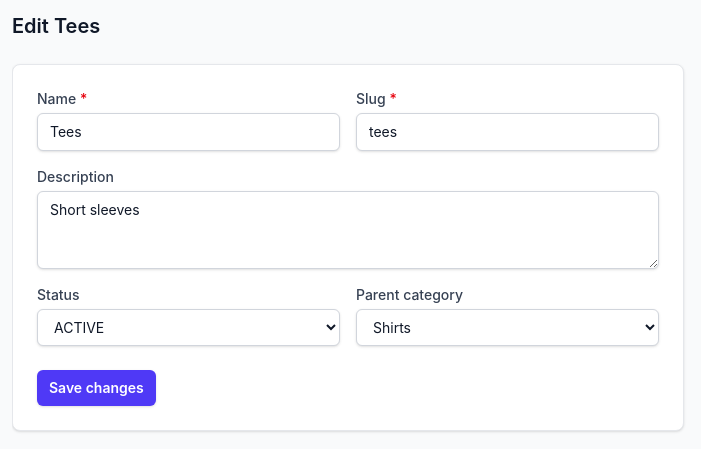
Test: CategoryFormPage › clears the description and parent when emptied on edit
Clear the text box labelled "Description": (348, 230) [37,191,659,269]
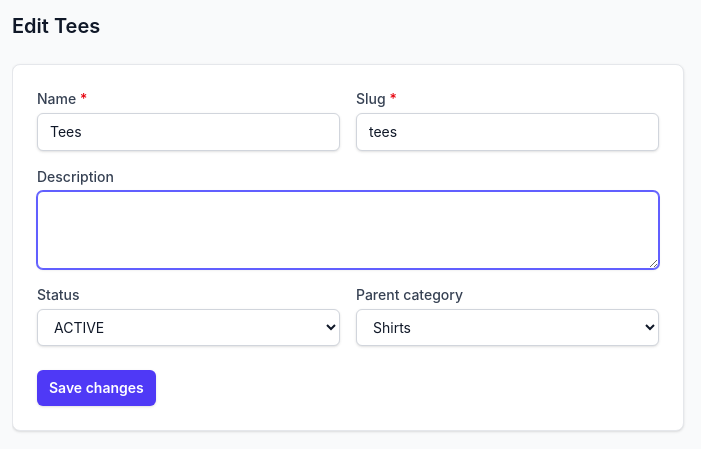
Select "None" in the dropdown labelled "Parent category": (508, 328) [356,309,659,346]
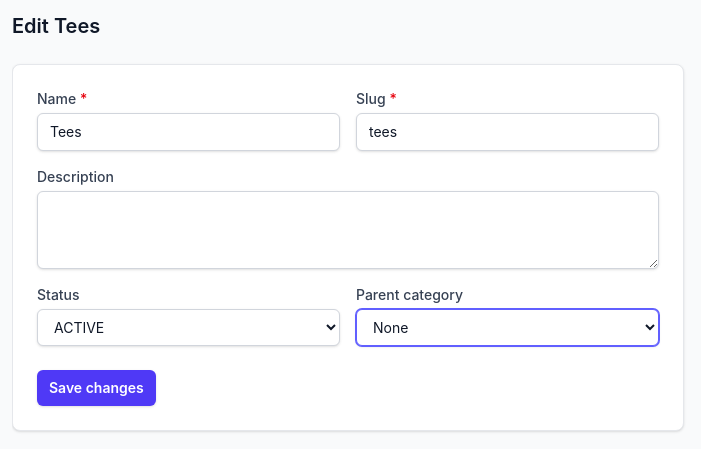
Click the button "Save changes": (96, 388) [37,370,156,406]
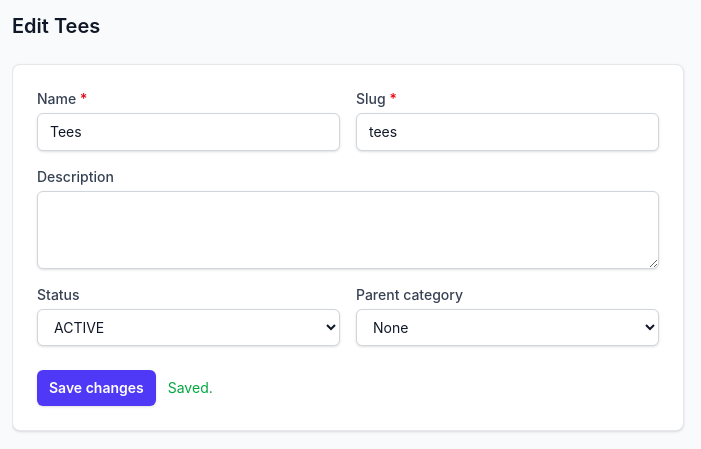
Check: the text "Saved." is shown, box [168,378,213,398]
